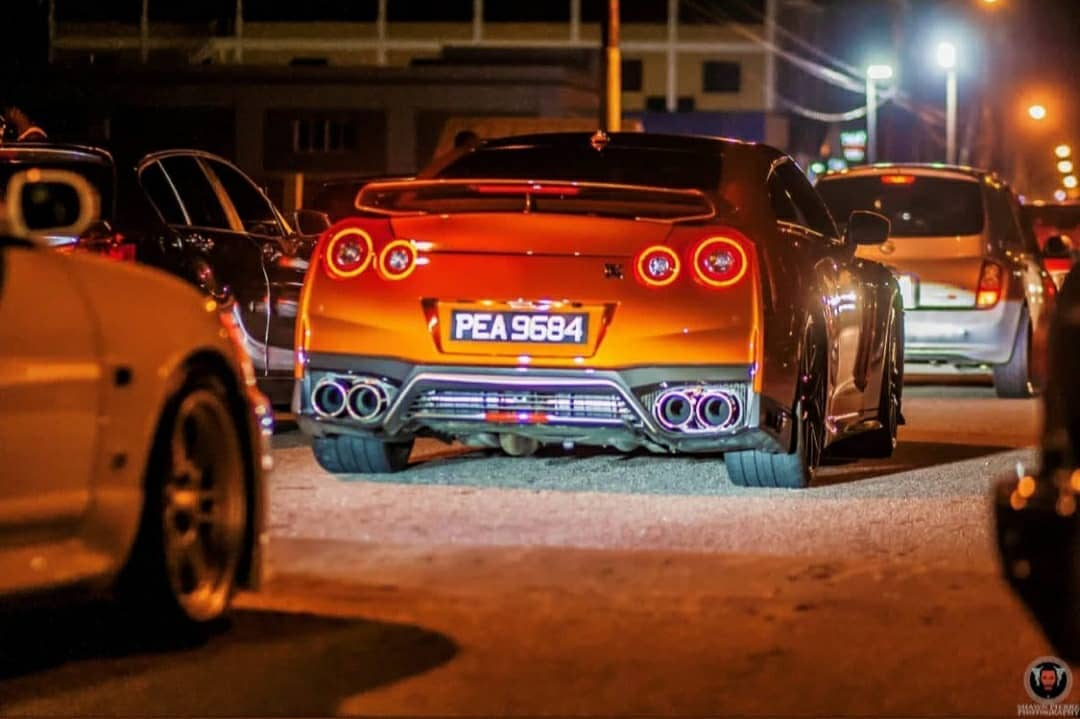License-Plate: (451, 309, 587, 340)
